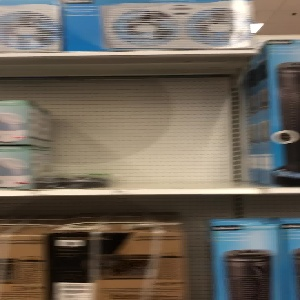void: (107, 58, 261, 187)
